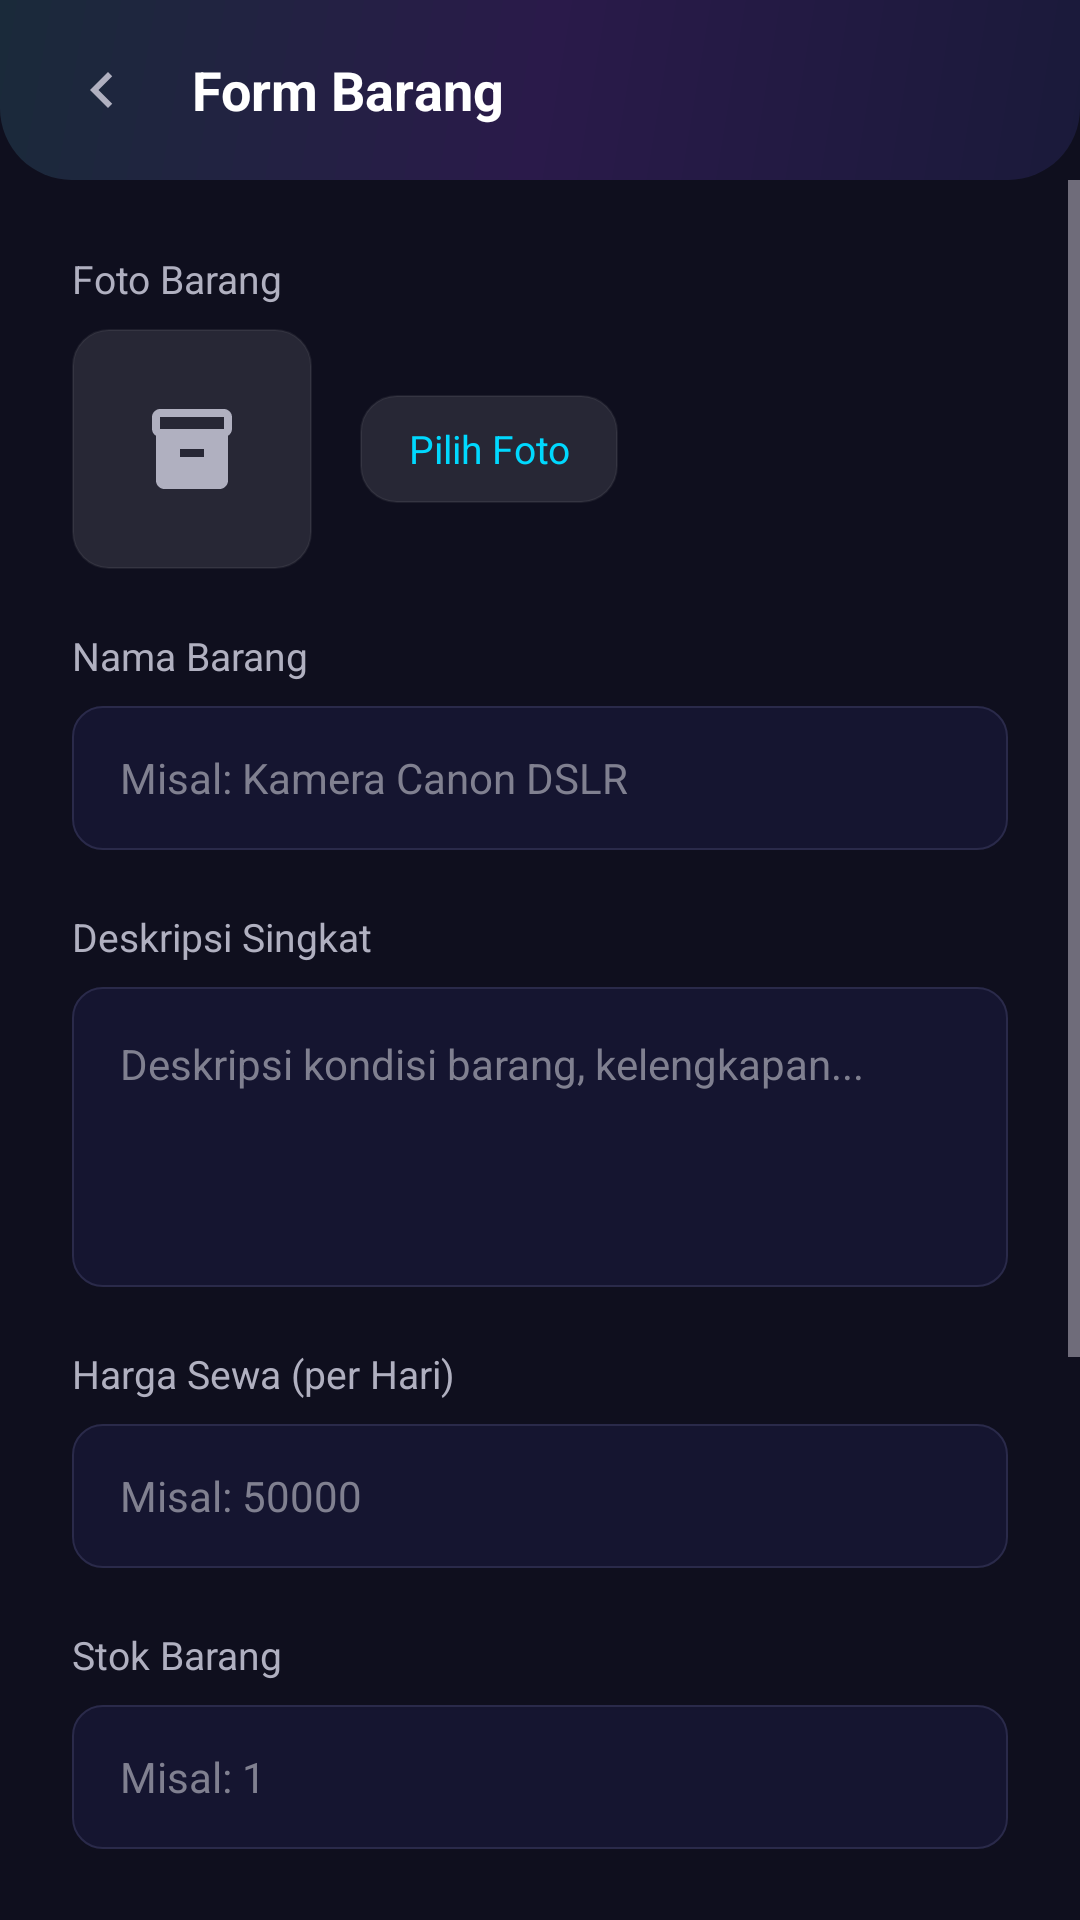

Where to tap for icons on this 1080×1920 app screen, as point (x, y):
inventory: point (192, 449)
Kembali: point (101, 90)
